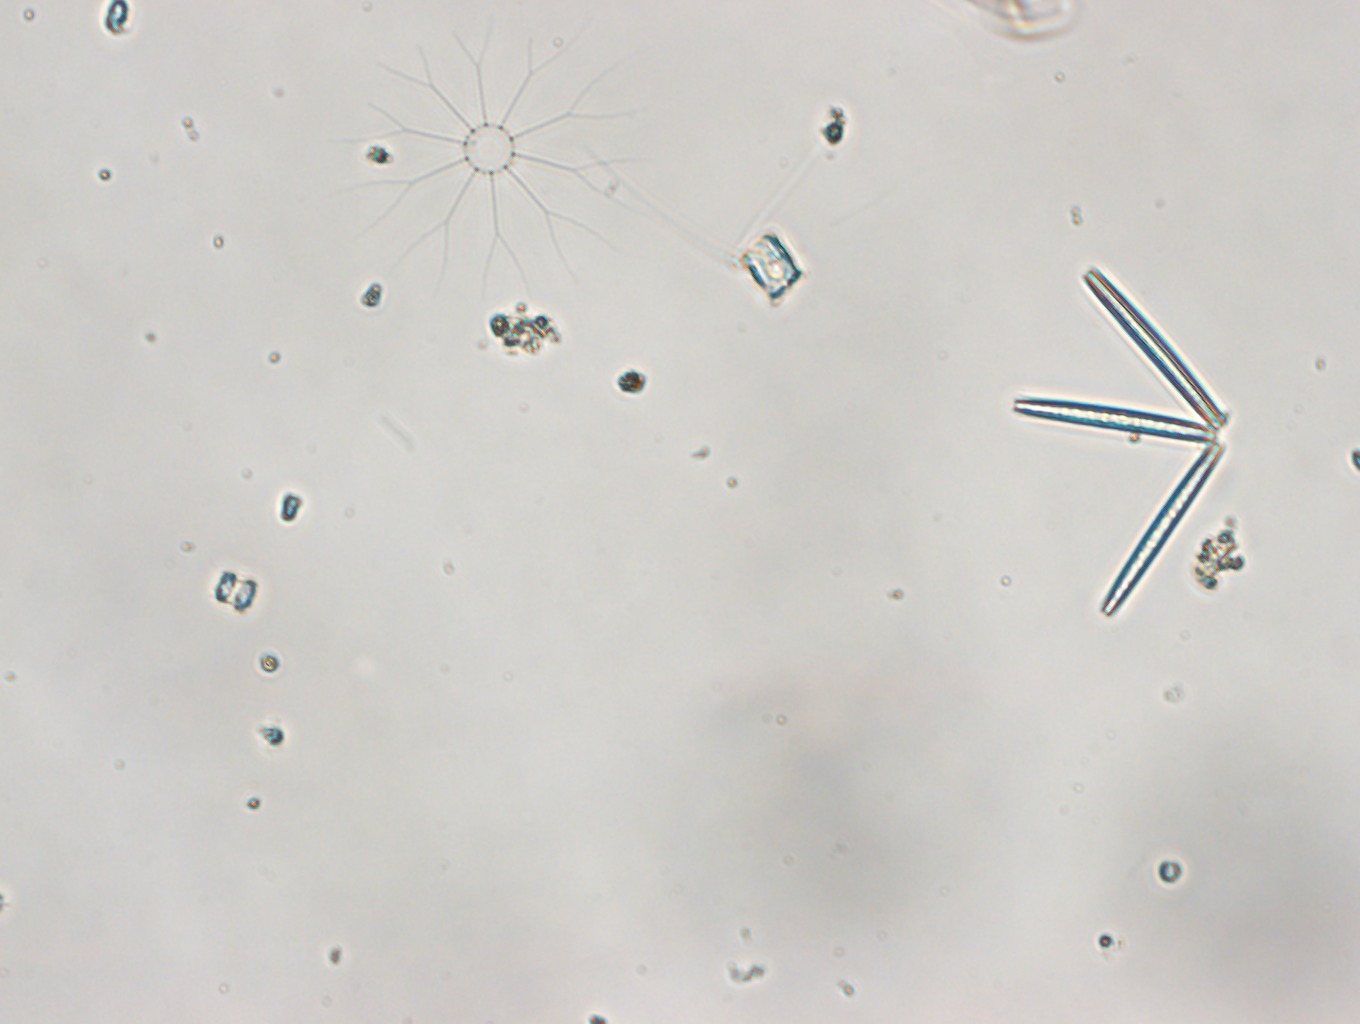bacteriastrum: (385, 25, 636, 304)
thalassionema frauenfeldii: (1012, 255, 1239, 626)
